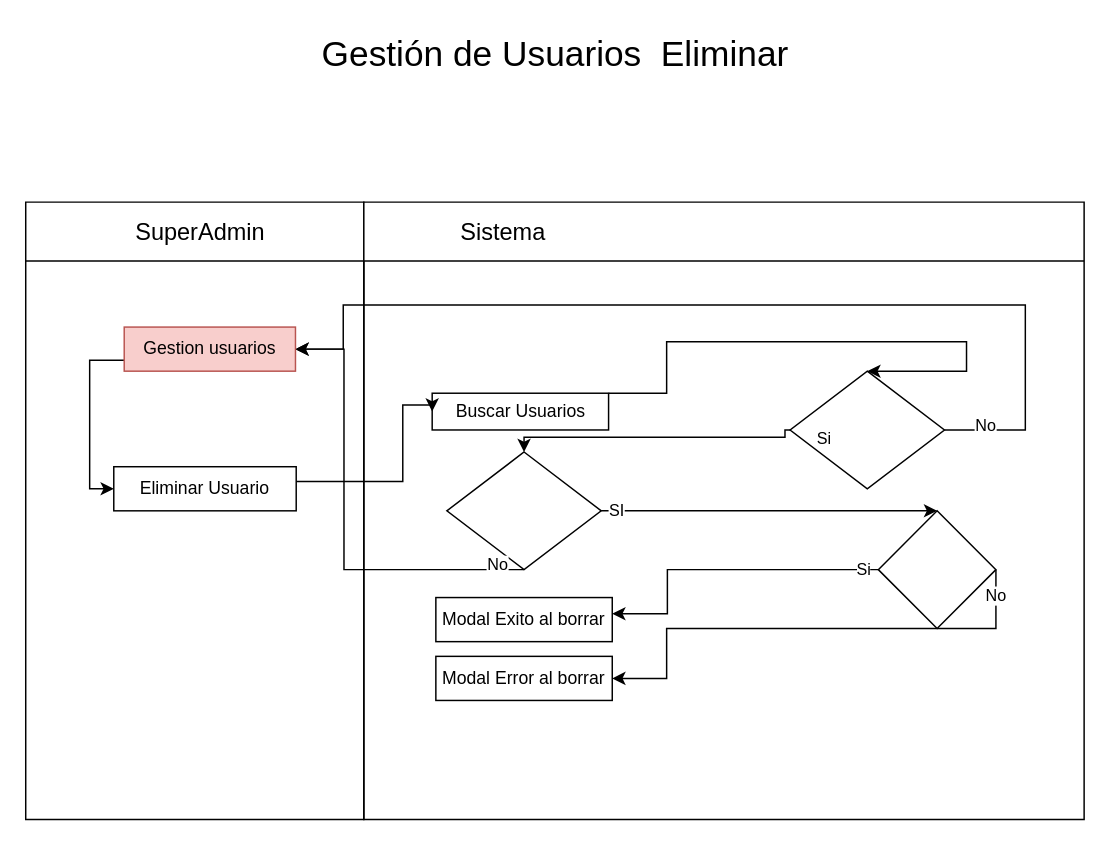
This 1110x845 diagram has some shape labels left out. Here are the shapes that lost their labels. From the top down, the centre of each, then its label:
At (866,429): "Encontrado".
At (523,510): "Modale eliminar Usuario".
At (936,568): "Usuario eliminado".
